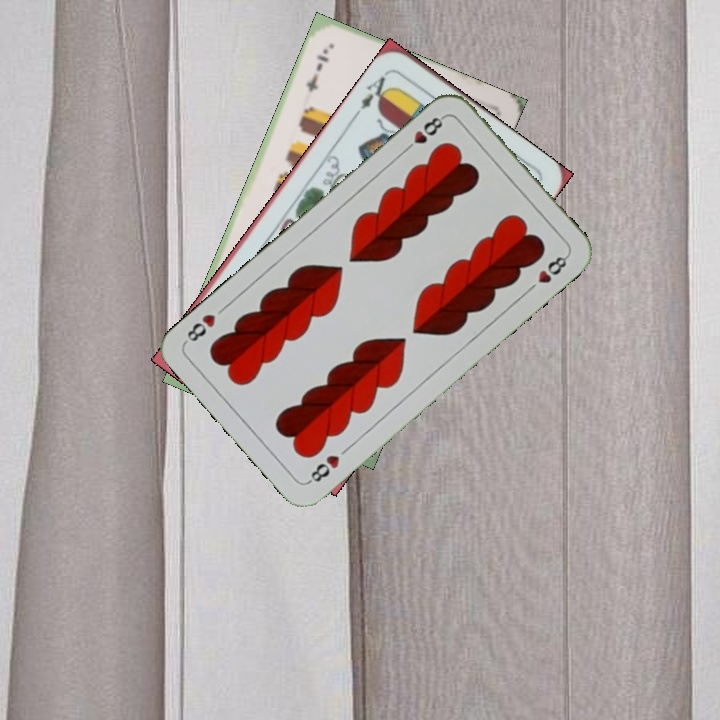E7: (301, 44, 332, 95)
EA: (356, 72, 395, 113)
H8: (399, 112, 448, 155), (303, 451, 343, 486)
